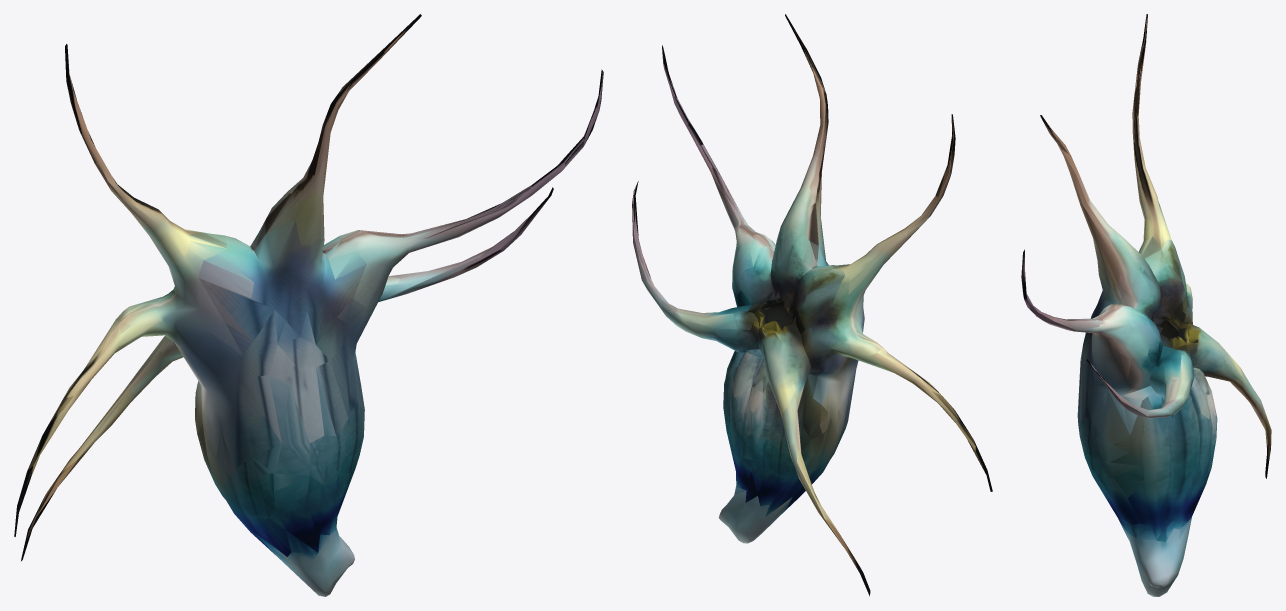
The model's file is cave_mushroom_01.glb.
The picture shows the model from 3 angles, left to right: view 1: azimuth 30°, elevation 25°; view 2: azimuth 150°, elevation 25°; view 3: azimuth 270°, elevation 25°; orthographic projection. The views are drawn at different scales.
Parts seen in each view (by area): view 1: oxygen; view 2: oxygen; view 3: oxygen.
Boxes of the visible parts, <box> form: oxygen: <box>14,14,603,596</box>; oxygen: <box>632,14,992,596</box>; oxygen: <box>1021,14,1271,596</box>.
Bounding box in the file's own units: 0.2761 × 0.3254 × 0.1503.
Materials: 1 (1 with a texture image).
